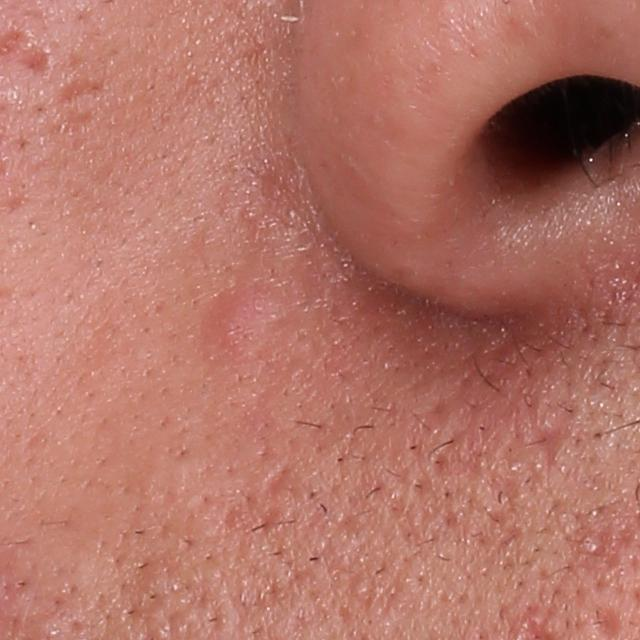atrophic_scar: (530, 406, 581, 473), (569, 524, 636, 567), (51, 77, 117, 108), (261, 464, 291, 495)
papule: (198, 298, 264, 366)
